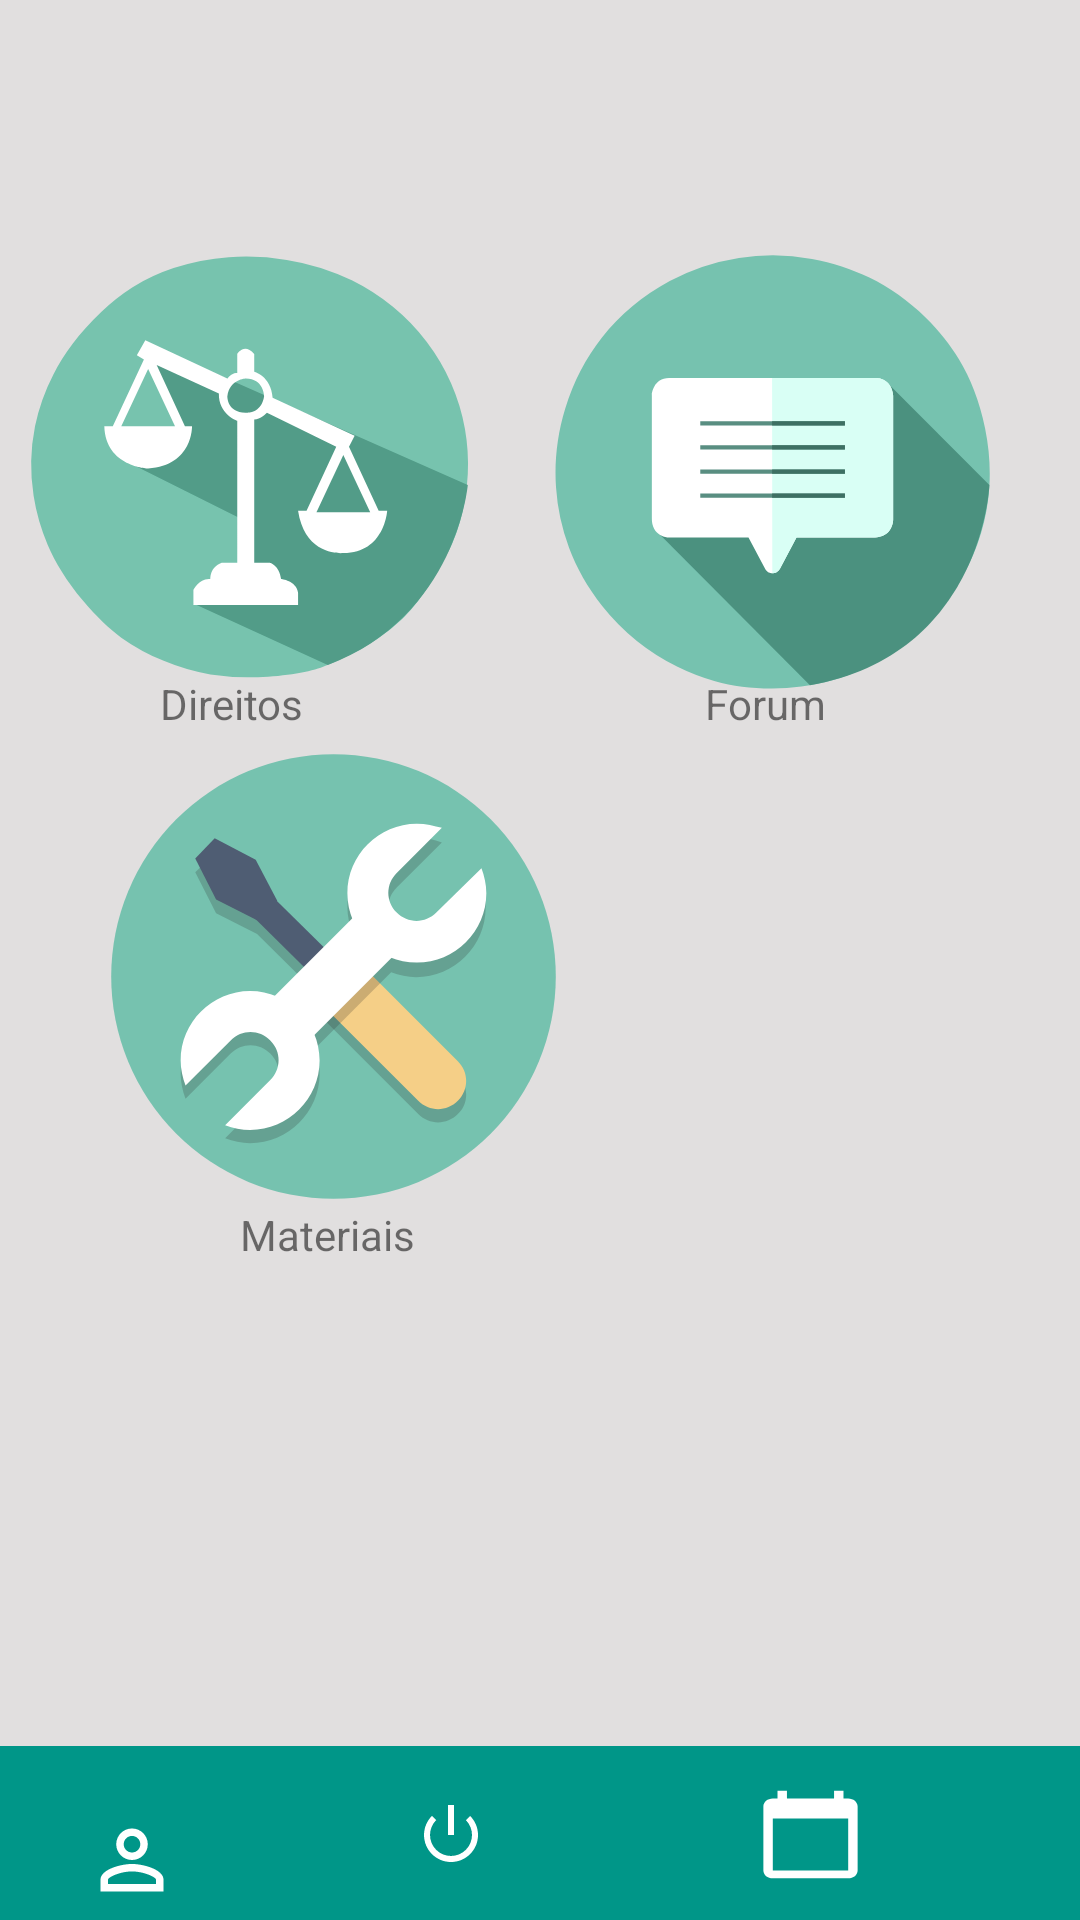

Icons on this 1080w x 1920h Android screen, each with the point to tap as [x,y]:
calendario: [810,1834]
lock power off: [451,1833]
user: [132,1860]
